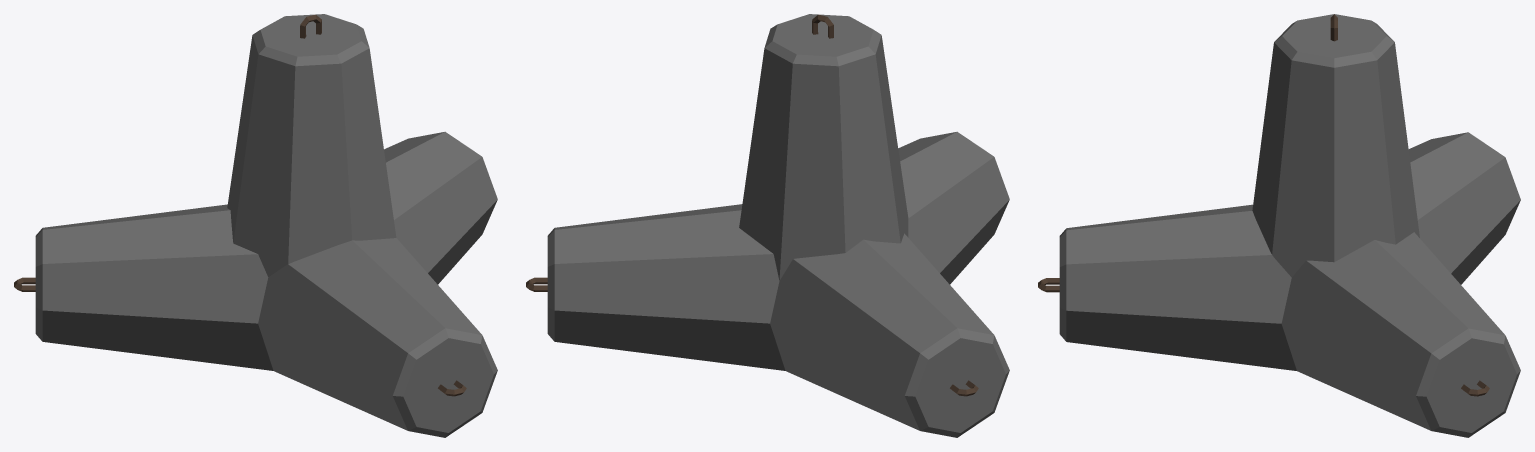
The model's file is SM_Envr_Seawall_RipRap_01.fbx.
3 views of the same model, side by side, from view 1: azimuth 30°, elevation 25°; view 2: azimuth 150°, elevation 25°; view 3: azimuth 270°, elevation 25° (orthographic).
Visible parts, largest first — view 1: SM_Envr_Seawall_RipRap_01; view 2: SM_Envr_Seawall_RipRap_01; view 3: SM_Envr_Seawall_RipRap_01.
Boxes of the visible parts, left/top/right/bottom form: SM_Envr_Seawall_RipRap_01: left=14, top=14, right=497, bottom=437; SM_Envr_Seawall_RipRap_01: left=526, top=14, right=1009, bottom=437; SM_Envr_Seawall_RipRap_01: left=1038, top=14, right=1520, bottom=437.
Size of the model in its own units: 346 by 254 by 316.
